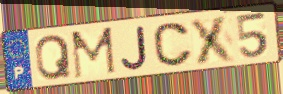5: (234, 10, 270, 60)
C: (151, 21, 195, 68)
J: (119, 24, 149, 72)
M: (69, 25, 118, 82)
Q: (34, 33, 73, 82)
X: (188, 13, 239, 67)
